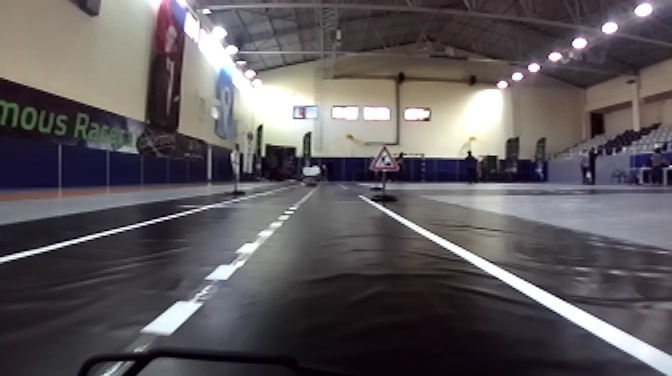yol_yapimi: (368, 141, 399, 173)
